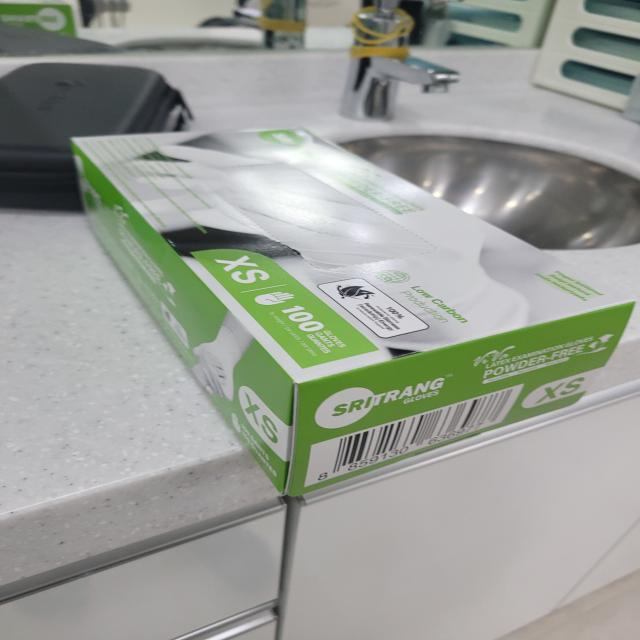glove: (47, 109, 640, 512)
